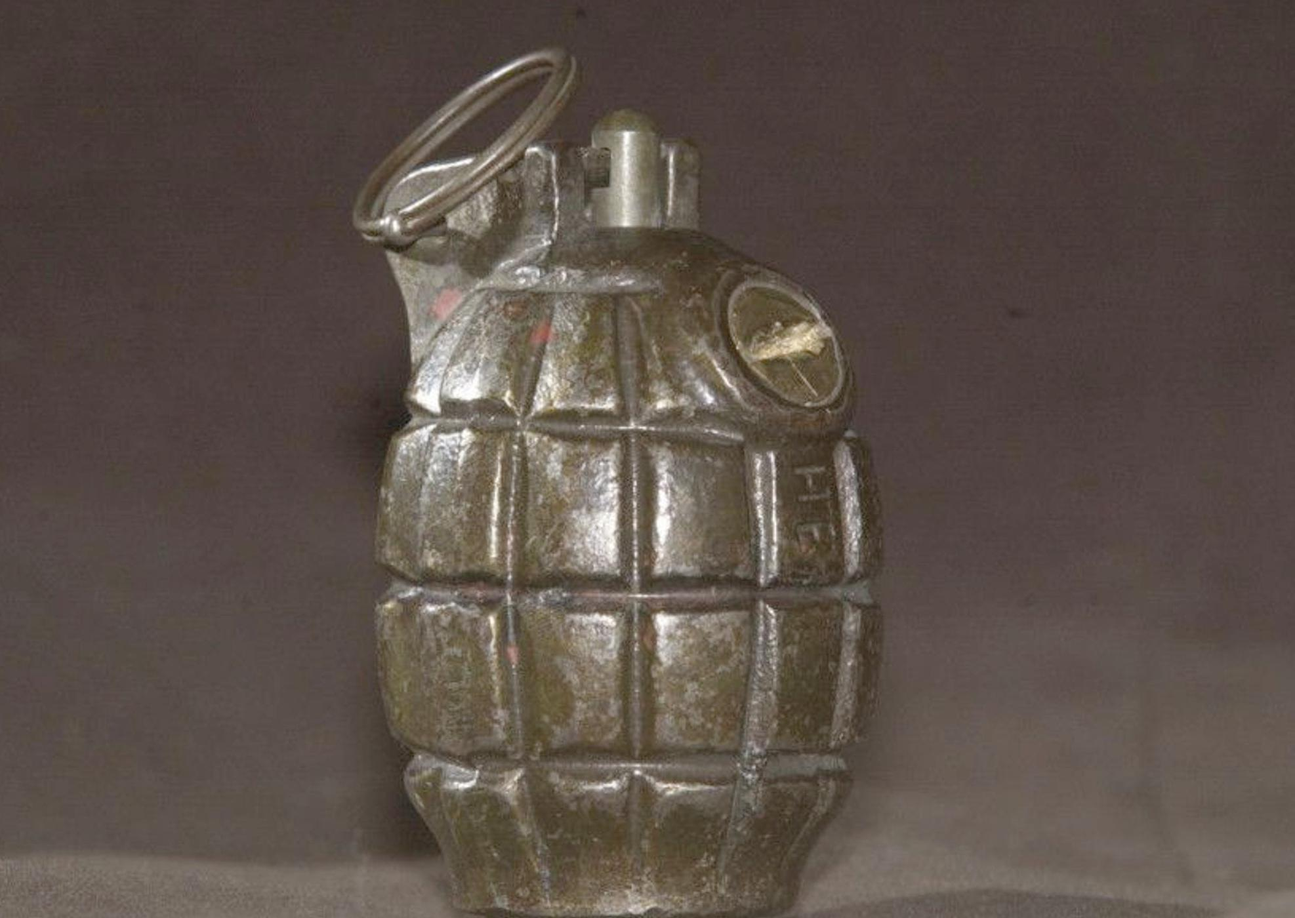Grenade: (358, 49, 878, 917)
